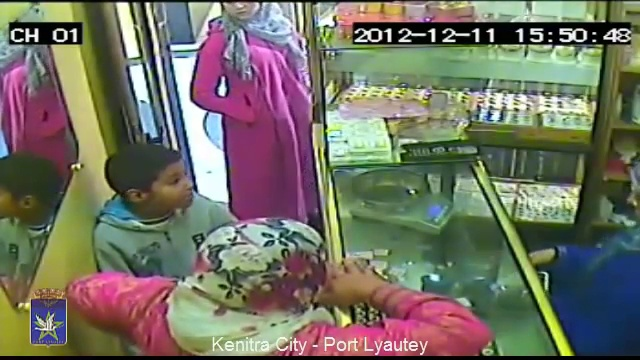face: (151, 161, 193, 206), (220, 2, 257, 21)
